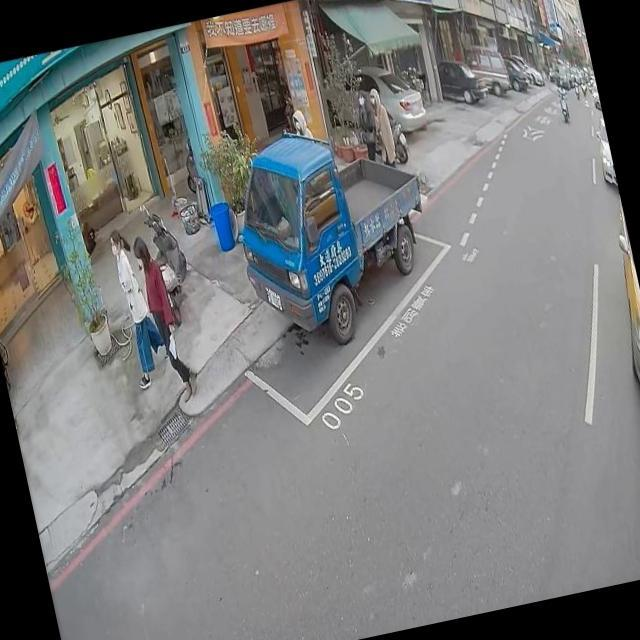person: (126, 229, 207, 407), (106, 228, 169, 388), (364, 85, 398, 168), (350, 86, 385, 164), (288, 102, 314, 148), (554, 78, 566, 99)
